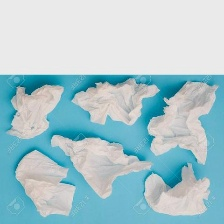tissue: (45, 129, 158, 203), (142, 77, 222, 166), (11, 145, 80, 222), (66, 75, 164, 129), (138, 160, 216, 220), (1, 78, 69, 144)
